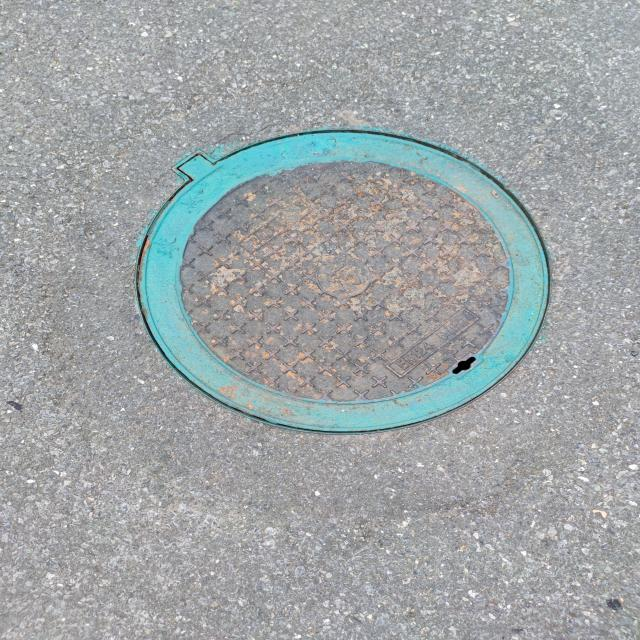Good: (127, 125, 558, 437)
